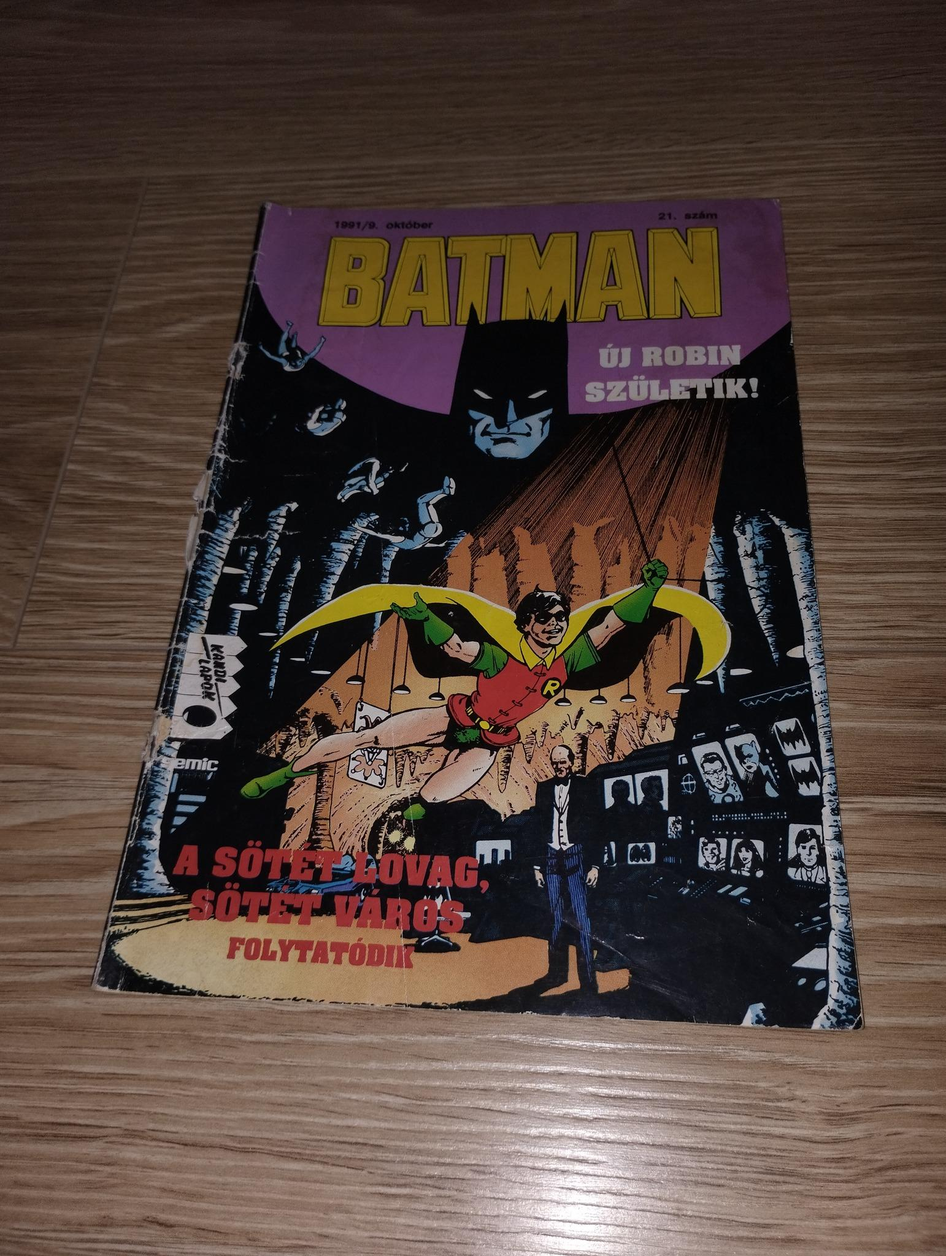comic: (96, 167, 902, 1029)
